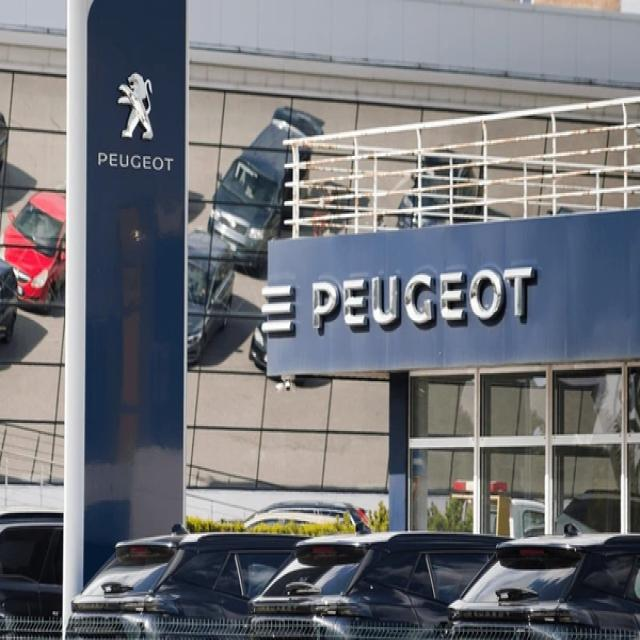pegout: (118, 70, 155, 140)
